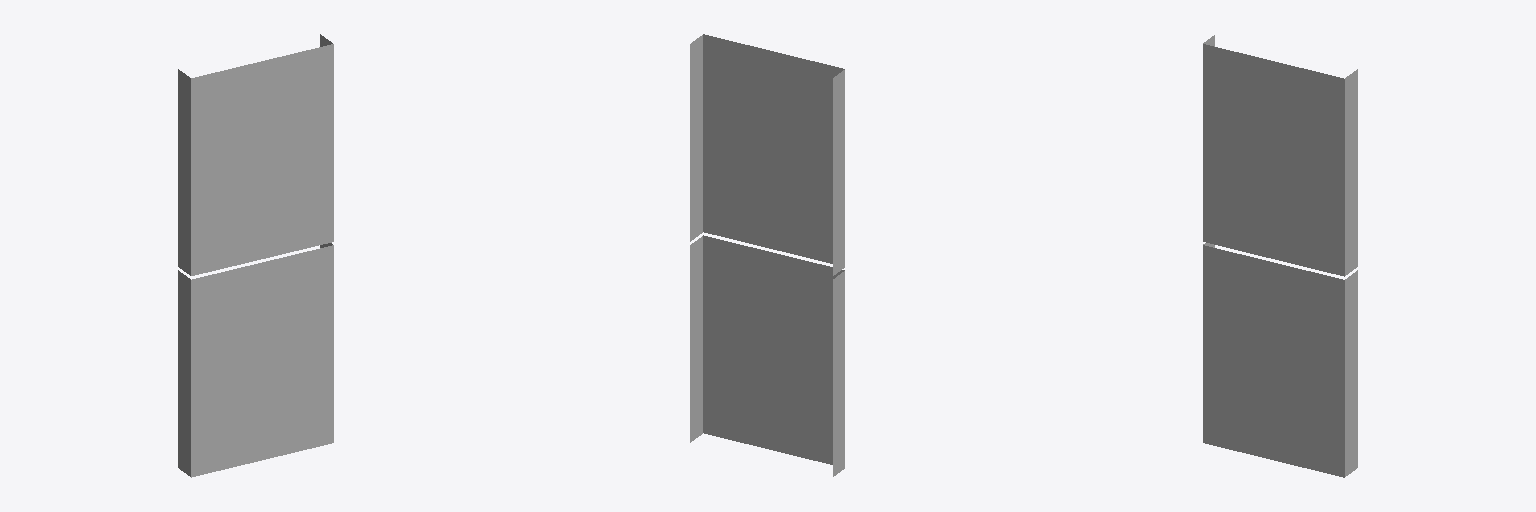
File: covertape.obj
3 views of the same model, side by side, from view 1: azimuth 30°, elevation 25°; view 2: azimuth 150°, elevation 25°; view 3: azimuth 330°, elevation 25° (orthographic).
Visible parts, largest first — view 1: covertape_covergb_cover.010; view 2: covertape_covergb_cover.010; view 3: covertape_covergb_cover.010.
Part boxes in pixels (left/top/right/bottom): covertape_covergb_cover.010: left=178, top=34, right=333, bottom=477; covertape_covergb_cover.010: left=690, top=34, right=844, bottom=476; covertape_covergb_cover.010: left=1203, top=35, right=1357, bottom=477.
Size of the model in its own units: 1.16 by 3.11 by 0.1872.